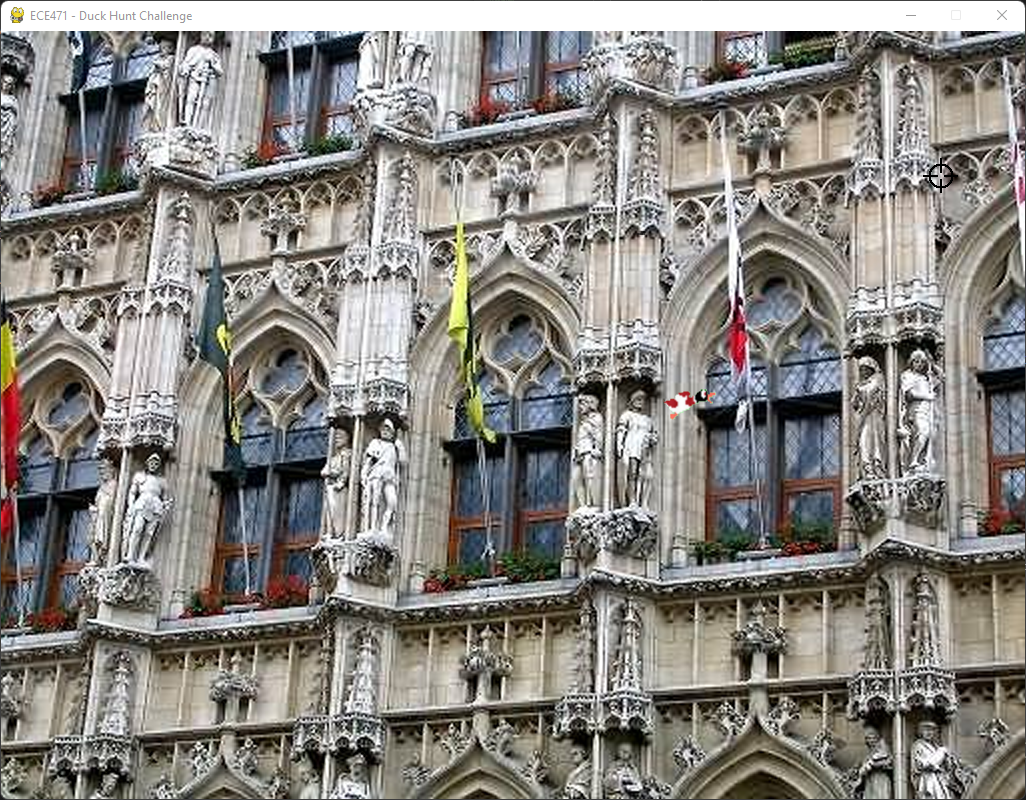red: (651, 380, 721, 431)
